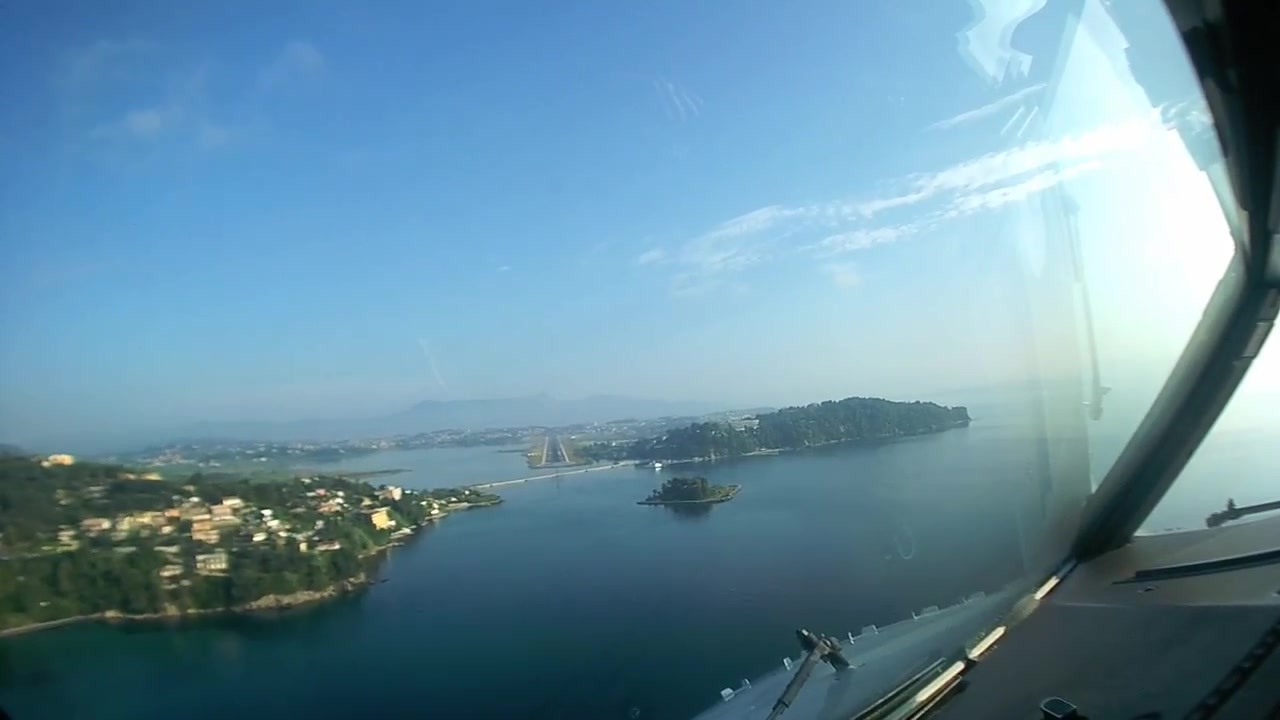runway: (539, 435, 570, 468)
